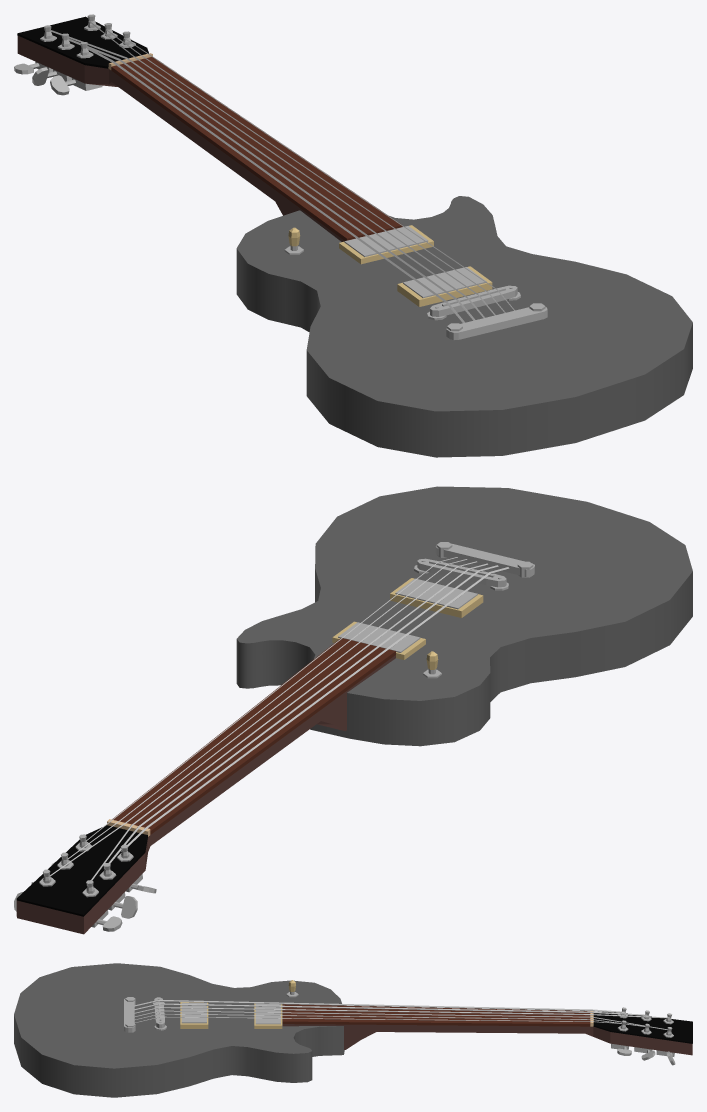
File: guitar.dae
3 renders of one model, top to bottom at view 1: azimuth 30°, elevation 25°; view 2: azimuth 150°, elevation 25°; view 3: azimuth 270°, elevation 25°, orthographic. The views are drawn at different scales.
Visible parts, largest first — view 1: Body, Neck, Pickup Bridge, Pickup Neck, Tailpiece, String E, Bridge, String A, String D, String G, String B, Tuner E; view 2: Body, Neck, Pickup Bridge, Pickup Neck, Tailpiece, String E, Bridge, String A, String D, String G, String B; view 3: Body, Neck, String E, String A, String D, String G, Pickup Bridge, String B, Pickup Neck, String E high, Tailpiece, Bridge (+2 smaller).
Part boxes in pixels (x1,y1,x2,y2): Body: (236, 196, 692, 457); Neck: (17, 16, 402, 241); Pickup Bridge: (397, 266, 492, 306); Pickup Neck: (339, 225, 433, 264); Tailpiece: (446, 303, 547, 340); String E: (87, 47, 464, 322); Bridge: (427, 285, 520, 320); String A: (68, 38, 475, 320); String D: (51, 30, 484, 317); String G: (88, 20, 495, 315); String B: (105, 29, 505, 312); Tuner E: (50, 42, 102, 95); Body: (236, 486, 692, 746); Neck: (16, 638, 395, 934); Pickup Bridge: (390, 578, 483, 617); Pickup Neck: (332, 621, 425, 659); Tailpiece: (435, 542, 534, 577); String E: (121, 567, 509, 851); Bridge: (414, 558, 508, 590); String A: (104, 565, 498, 868); String D: (86, 563, 487, 885); String G: (49, 561, 476, 876); String B: (67, 559, 467, 859); Body: (14, 963, 344, 1097); Neck: (282, 1004, 692, 1055); String E: (134, 1000, 624, 1013); String A: (134, 1003, 646, 1015); String D: (134, 1007, 669, 1018); String G: (135, 1010, 667, 1030); Pickup Bridge: (180, 1002, 208, 1028); String B: (135, 1013, 645, 1026); Pickup Neck: (254, 1003, 282, 1028); String E high: (135, 1016, 621, 1023); Tailpiece: (124, 997, 135, 1032); Bridge: (152, 997, 166, 1030).
Bounding box in the file's own units: 1.55 × 4.22 × 0.3276.
